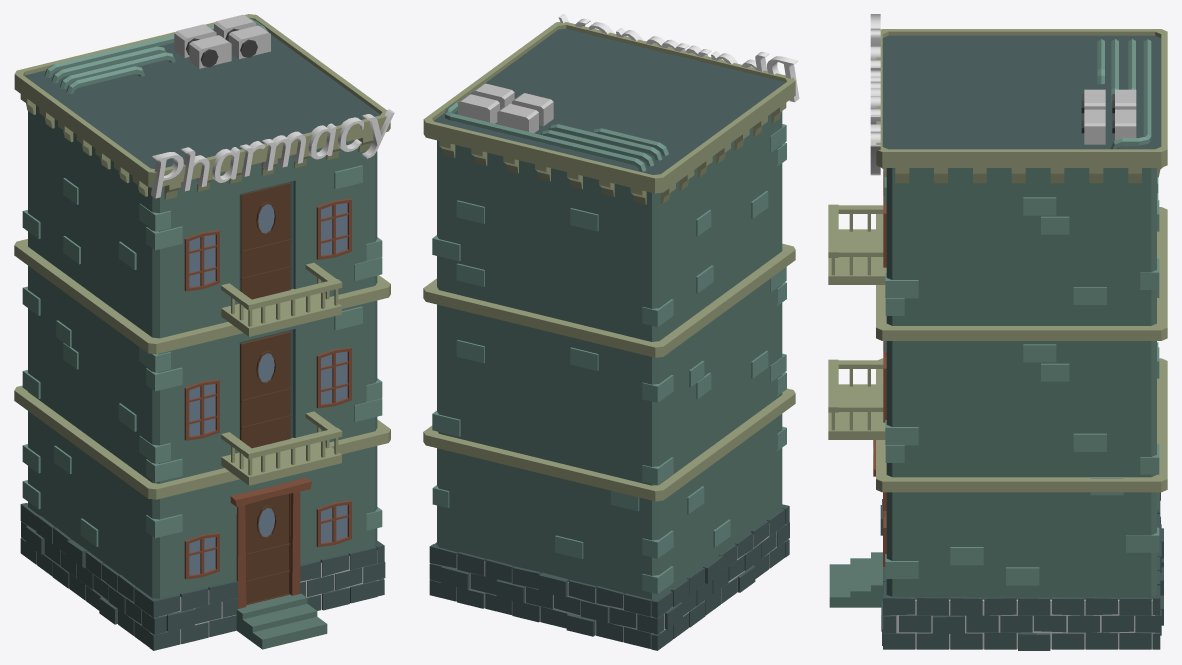
File: Pharmacy.fbx
The picture shows the model from 3 angles, left to right: view 1: azimuth 30°, elevation 25°; view 2: azimuth 150°, elevation 25°; view 3: azimuth 270°, elevation 25°; orthographic projection. The views are drawn at different scales.
Parts seen in each view (by area): view 1: 3Story_Balcony_Mat, Sign_Pharmacy; view 2: 3Story_Balcony_Mat, Sign_Pharmacy; view 3: 3Story_Balcony_Mat, Sign_Pharmacy.
Part boxes in pixels (x1,y1,x2,y2): 3Story_Balcony_Mat: [14, 14, 390, 650]; Sign_Pharmacy: [151, 109, 394, 198]; 3Story_Balcony_Mat: [423, 22, 795, 650]; Sign_Pharmacy: [558, 14, 799, 102]; 3Story_Balcony_Mat: [828, 29, 1167, 650]; Sign_Pharmacy: [870, 14, 880, 175].
Size of the model in its own units: 216 by 422 by 251.
